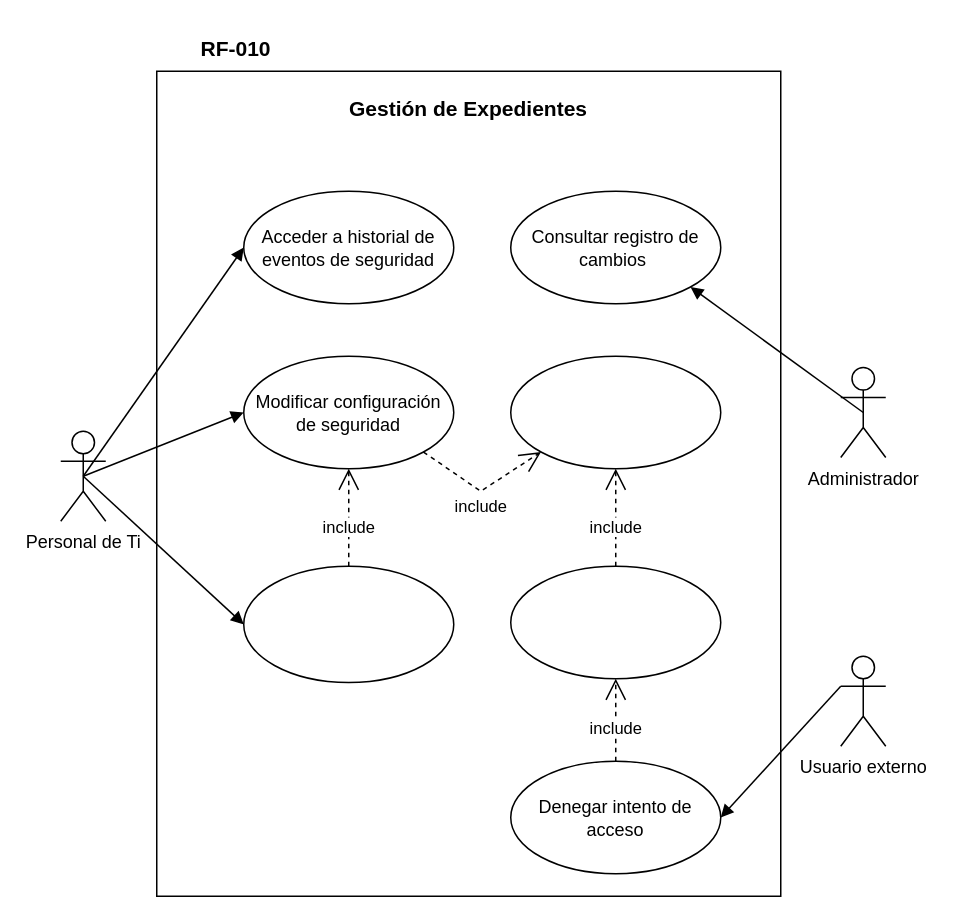
The diagram is 953 pixels wide and 923 high, and some of its shapes have lost their labels. The centre of each missing label's shape, as x and y in pixels:
Registrar acción en historial de eventos: [615,412]
Registrar intento de acceso: [615,622]
Restaurar configuración de seguridad: [348,623]
